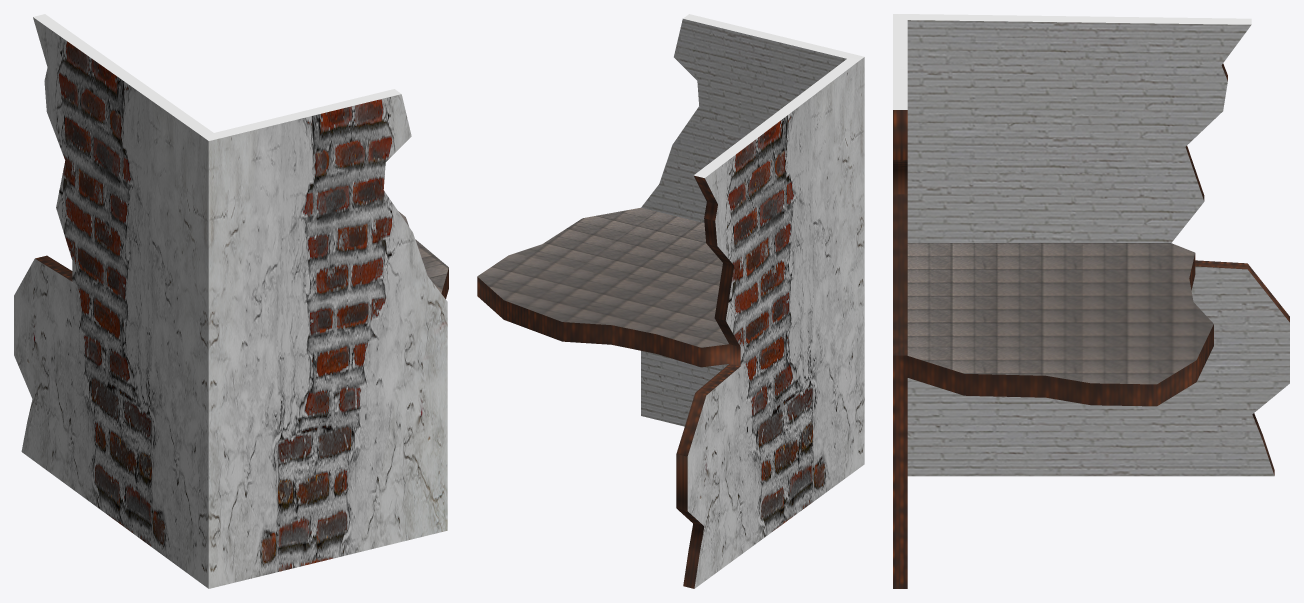
File: DestroyedBuilding2.fbx
3 views of the same model, side by side, from view 1: azimuth 30°, elevation 25°; view 2: azimuth 150°, elevation 25°; view 3: azimuth 270°, elevation 25° (orthographic). The views are drawn at different scales.
Parts seen in each view (by area): view 1: pCube1; view 2: pCube1; view 3: pCube1.
Part boxes in pixels (<box>): pCube1: <box>14,14,448,588</box>; pCube1: <box>477,14,864,588</box>; pCube1: <box>893,14,1289,588</box>.
Size of the model in its own units: 24.09 by 34.77 by 27.41.
